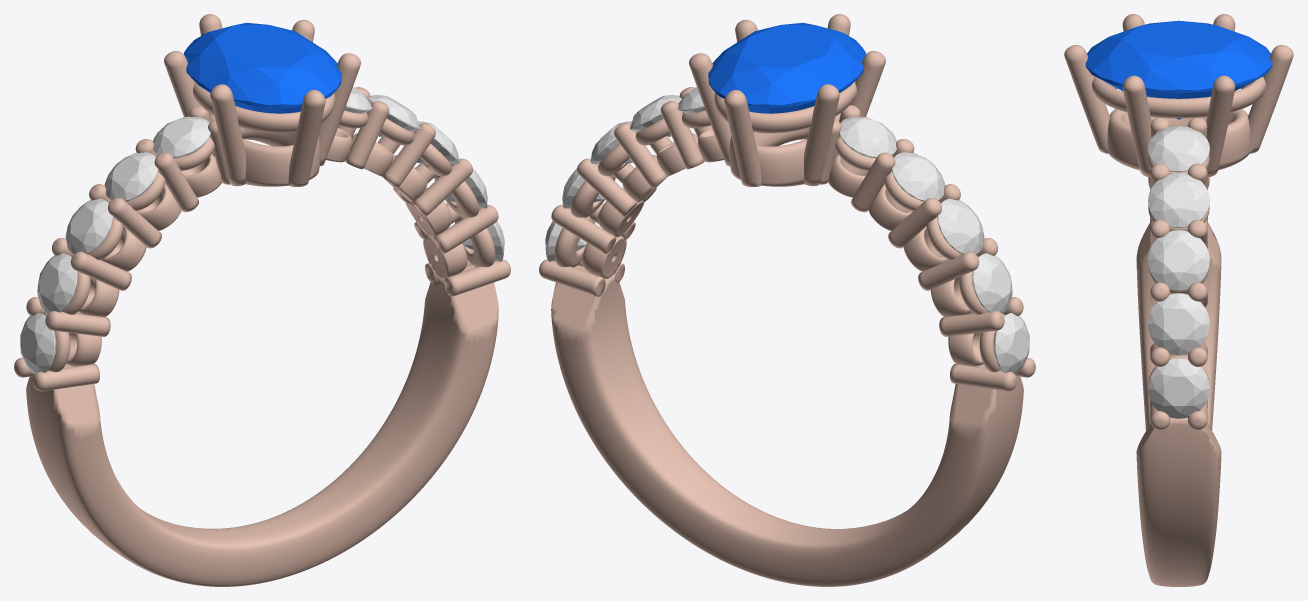
File: bluesapphire-oval-rosegold-6prong-straighttaperedband-11stone.glb
3 views of the same model, side by side, from view 1: azimuth 30°, elevation 25°; view 2: azimuth 150°, elevation 25°; view 3: azimuth 270°, elevation 25° (orthographic).
Parts seen in each view (by area): view 1: metal, stone.001, side.012, side.013, side.011, side.014, side.010, side.018; view 2: metal, stone.001, side.012, side.013, side.011, side.014, side.010, side.018; view 3: metal, stone.001, side.016, side.017, side.015, side.018, side.019.
Boxes of the visible parts, left/top/right/bottom form: metal: left=14, top=14, right=510, bottom=586; stone.001: left=184, top=22, right=341, bottom=113; side.012: left=65, top=198, right=112, bottom=254; side.013: left=104, top=152, right=158, bottom=201; side.011: left=37, top=253, right=77, bottom=313; side.014: left=153, top=116, right=210, bottom=158; side.010: left=20, top=313, right=56, bottom=373; side.018: left=368, top=94, right=419, bottom=136; metal: left=539, top=14, right=1035, bottom=586; stone.001: left=708, top=22, right=865, bottom=113; side.012: left=937, top=198, right=984, bottom=254; side.013: left=891, top=152, right=945, bottom=201; side.011: left=972, top=253, right=1012, bottom=313; side.014: left=839, top=116, right=896, bottom=158; side.010: left=993, top=313, right=1029, bottom=373; side.018: left=630, top=94, right=681, bottom=136; metal: left=1064, top=14, right=1293, bottom=586; stone.001: left=1085, top=20, right=1272, bottom=119; side.016: left=1148, top=293, right=1209, bottom=354; side.017: left=1148, top=230, right=1209, bottom=290; side.015: left=1148, top=358, right=1209, bottom=418; side.018: left=1148, top=173, right=1209, bottom=228; side.019: left=1148, top=126, right=1209, bottom=172.
Size of the model in its own units: 21.96 by 23.41 by 9.29.
